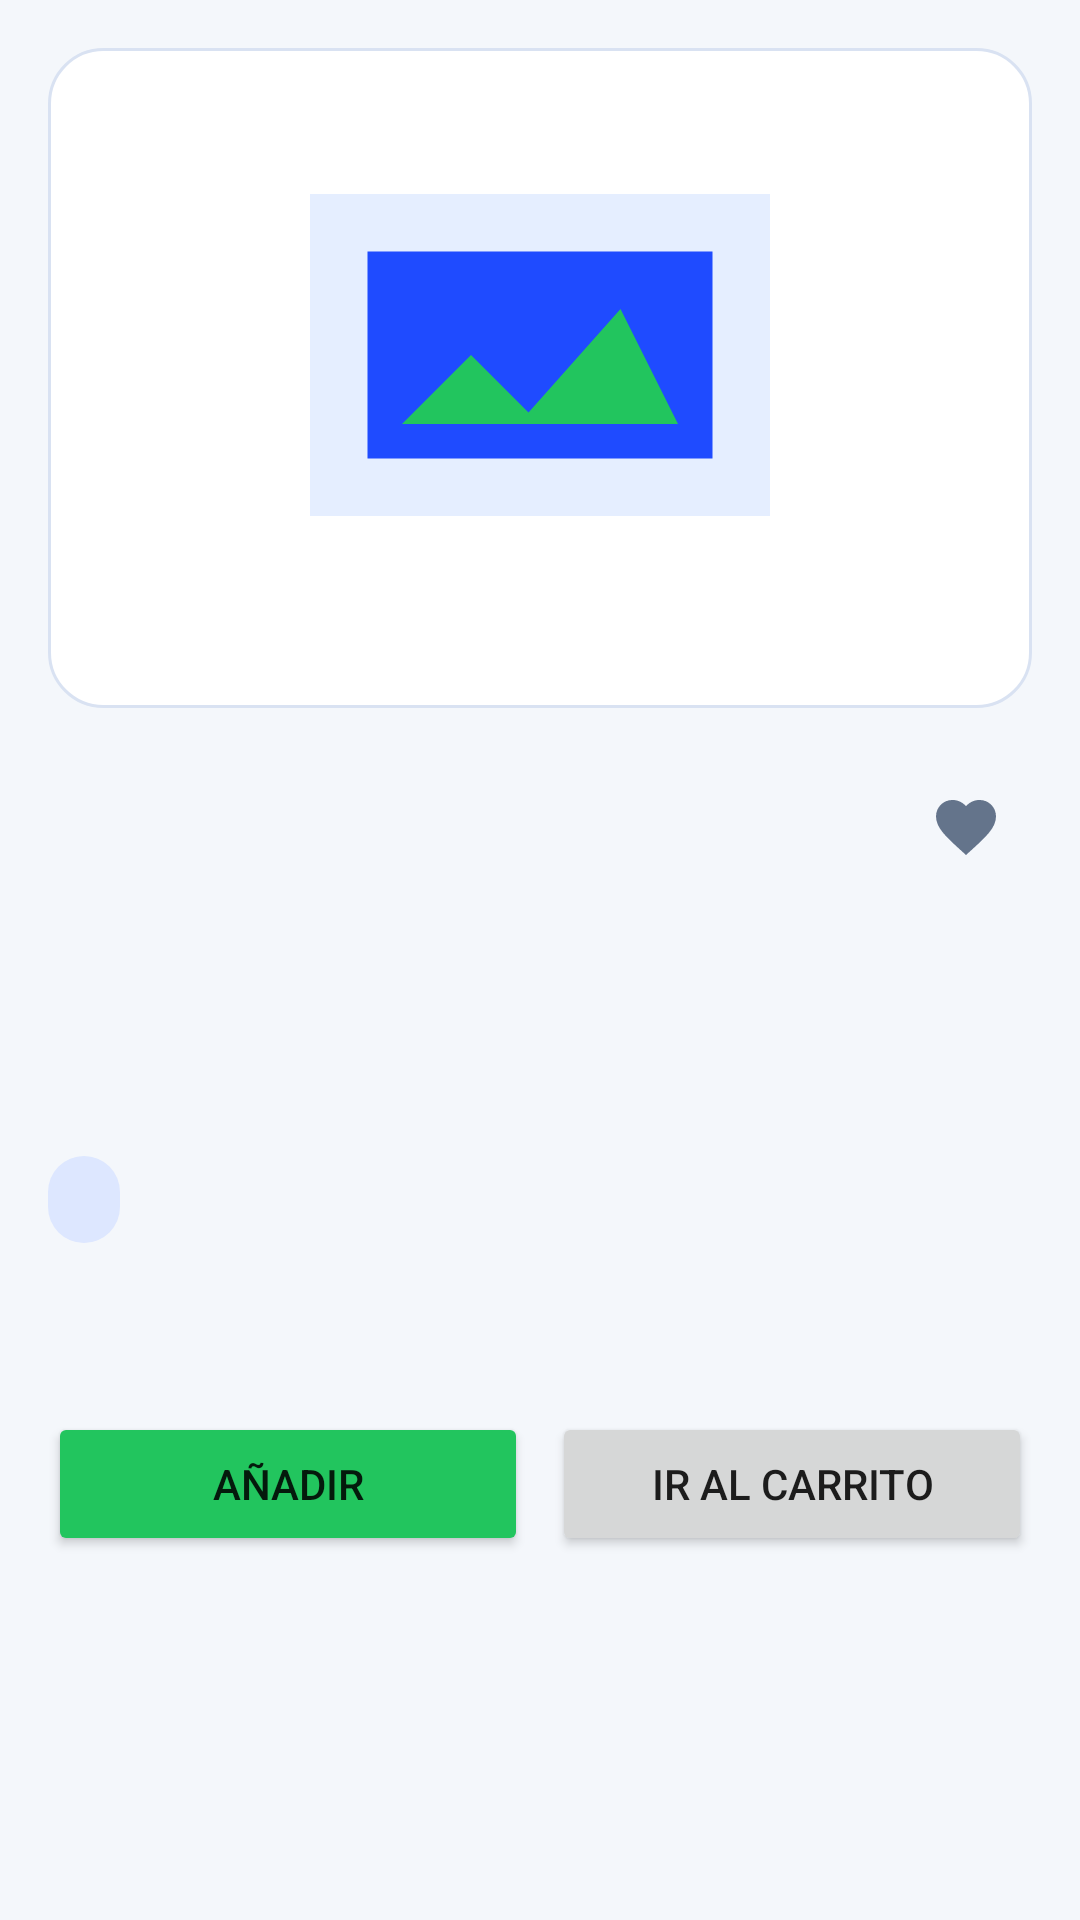

Icon bounding boxes for this 1080px×1920px phone screenshot, format box(x1, y1, x2, y2):
Marcar favorito: box(936, 800, 996, 855)
